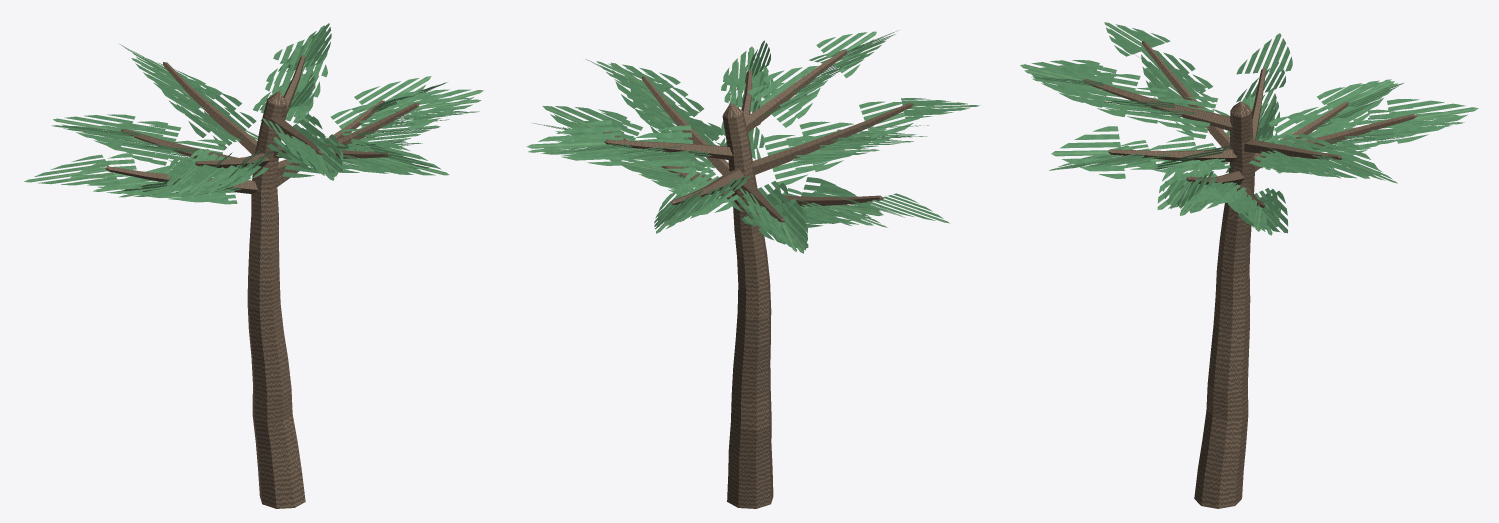
Rendered from 소나무_01.fbx.
3 views of the same model, side by side, from view 1: azimuth 30°, elevation 25°; view 2: azimuth 150°, elevation 25°; view 3: azimuth 270°, elevation 25° (orthographic).
Visible parts, largest first — view 1: 소나무_01; view 2: 소나무_01; view 3: 소나무_01.
Boxes of the visible parts, left/top/right/bottom form: 소나무_01: left=24, top=23, right=483, bottom=508; 소나무_01: left=526, top=30, right=980, bottom=508; 소나무_01: left=1020, top=22, right=1478, bottom=508.
Size of the model in its own units: 10243 by 9690 by 9858.
2 materials, 2 textured.
